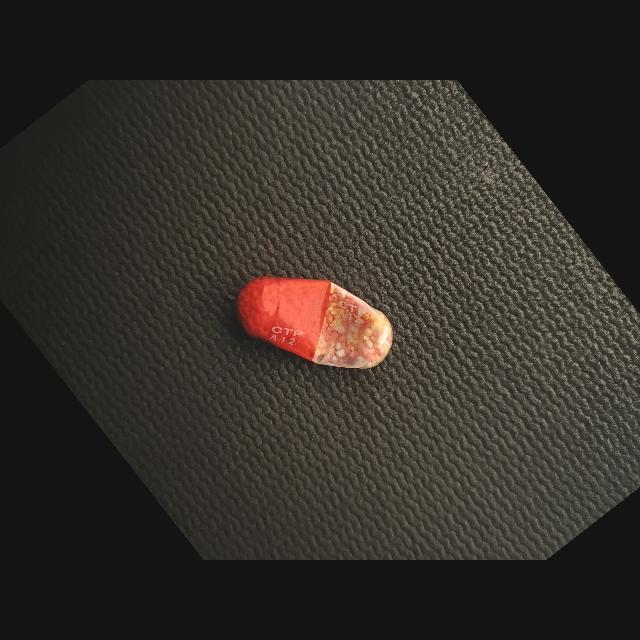Defective Capsule: (236, 276, 393, 369)
